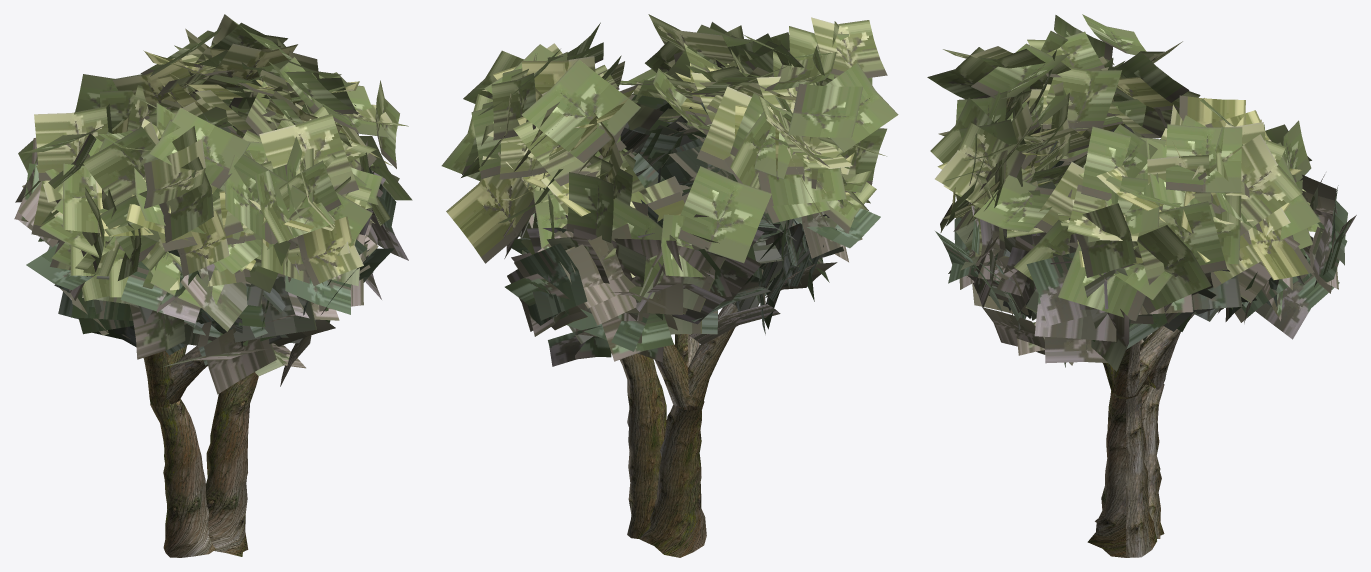
File: olivo_jardin_300.glb
3 views of the same model, side by side, from view 1: azimuth 30°, elevation 25°; view 2: azimuth 150°, elevation 25°; view 3: azimuth 270°, elevation 25° (orthographic). The views are drawn at different scales.
Parts seen in each view (by area): view 1: olivo_jardin_300; view 2: olivo_jardin_300; view 3: olivo_jardin_300.
Part boxes in pixels (x1,y1,x2,y2): olivo_jardin_300: [14, 14, 412, 557]; olivo_jardin_300: [441, 14, 898, 557]; olivo_jardin_300: [927, 14, 1356, 557].
Size of the model in its own units: 2.5 by 3 by 2.5.
2 materials, 2 textured.
